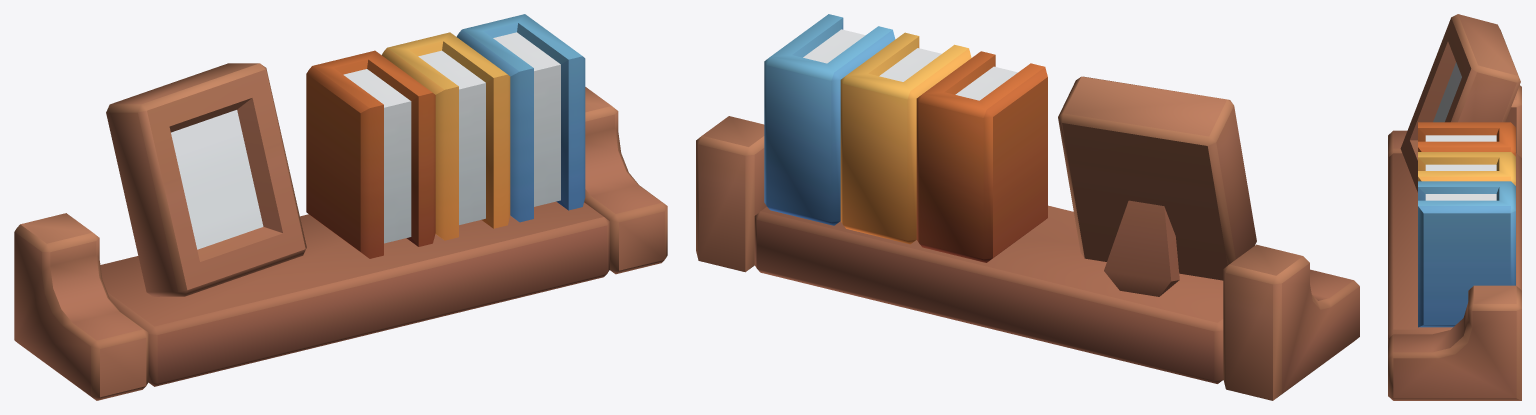
The model's file is shelf_B_large_decorated.glb.
The picture shows the model from 3 angles, left to right: view 1: azimuth 30°, elevation 25°; view 2: azimuth 150°, elevation 25°; view 3: azimuth 270°, elevation 25°; orthographic projection. The views are drawn at different scales.
Parts seen in each view (by area): view 1: shelf_B_large_decorated; view 2: shelf_B_large_decorated; view 3: shelf_B_large_decorated.
Boxes of the visible parts, <box> form: shelf_B_large_decorated: <box>14,14,667,400</box>; shelf_B_large_decorated: <box>696,14,1359,400</box>; shelf_B_large_decorated: <box>1388,14,1521,400</box>.
Bounding box in the file's own units: 2 × 0.8175 × 0.5.
1 material, 1 textured.
